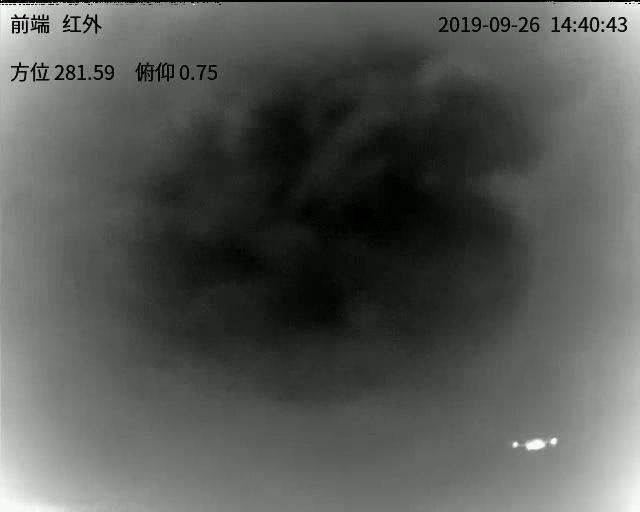DRONE: (510, 436, 560, 453)
